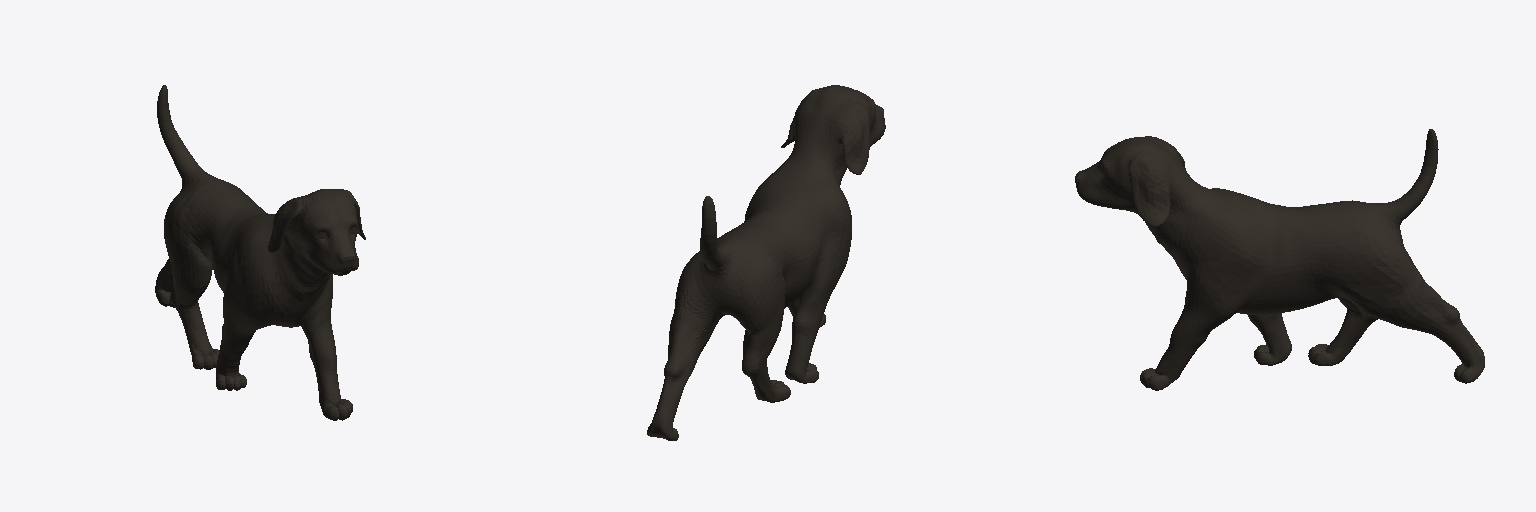
Rendered from anjing.obj.
3 views of the same model, side by side, from view 1: azimuth 30°, elevation 25°; view 2: azimuth 150°, elevation 25°; view 3: azimuth 270°, elevation 25° (orthographic).
Visible parts, largest first — view 1: Mesh1 Component_1_1 Model; view 2: Mesh1 Component_1_1 Model; view 3: Mesh1 Component_1_1 Model.
Boxes of the visible parts, <box> form: Mesh1 Component_1_1 Model: <box>155,85,365,420</box>; Mesh1 Component_1_1 Model: <box>647,85,885,440</box>; Mesh1 Component_1_1 Model: <box>1075,129,1484,390</box>.
Bounding box in the file's own units: 48.46 × 117 × 182.